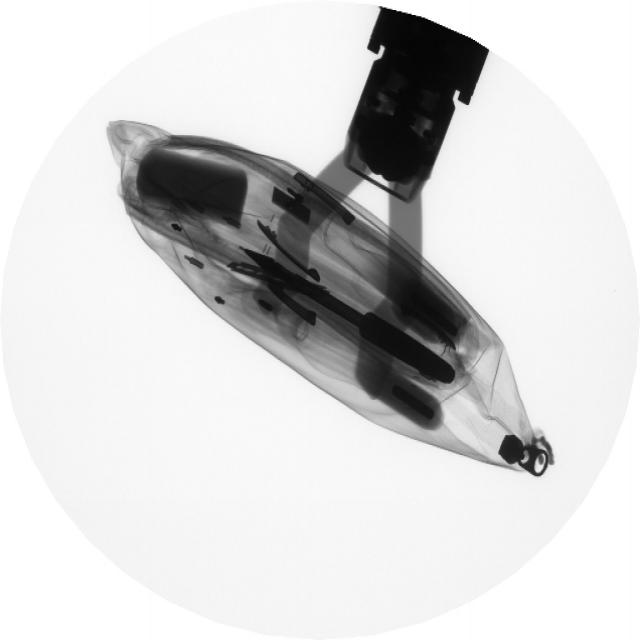BLADE: (225, 262, 291, 292)
